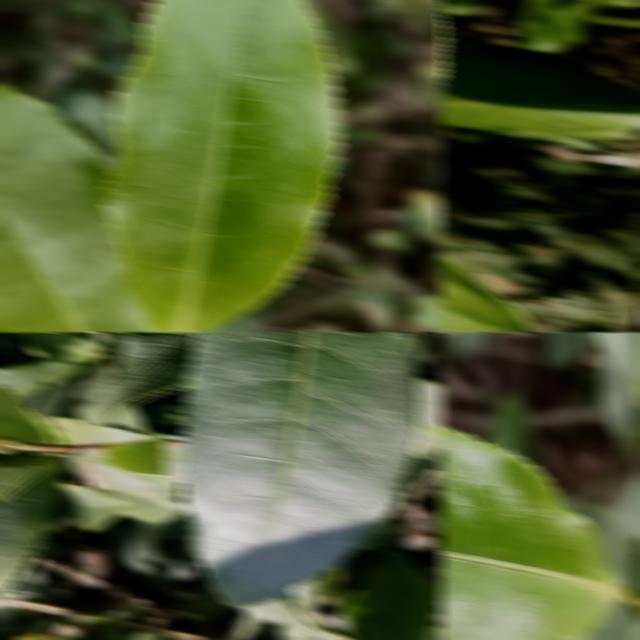Leaf: (102, 0, 342, 332), (180, 332, 421, 606), (438, 426, 633, 640), (0, 82, 161, 332), (438, 62, 640, 137), (0, 457, 62, 593), (357, 549, 438, 640), (101, 332, 198, 406), (0, 360, 86, 419), (580, 506, 637, 589), (0, 383, 70, 443), (485, 389, 538, 463), (56, 482, 132, 531), (410, 378, 444, 460), (20, 332, 105, 363)
